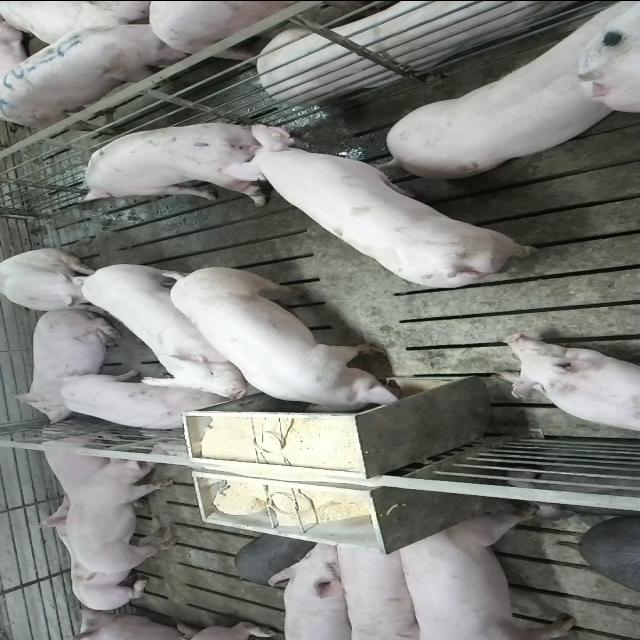Feeding: (163, 269, 407, 421)
Sitting: (1, 248, 108, 312)
Standing: (239, 128, 550, 292), (378, 6, 632, 182), (79, 257, 264, 398), (389, 506, 585, 638), (0, 17, 204, 126), (74, 119, 278, 207), (66, 452, 176, 575), (58, 372, 220, 432), (333, 536, 427, 638), (268, 539, 354, 640)
Sternal_lying: (242, 0, 598, 100), (499, 334, 640, 436), (30, 496, 156, 608), (12, 309, 122, 422), (34, 428, 118, 500)
